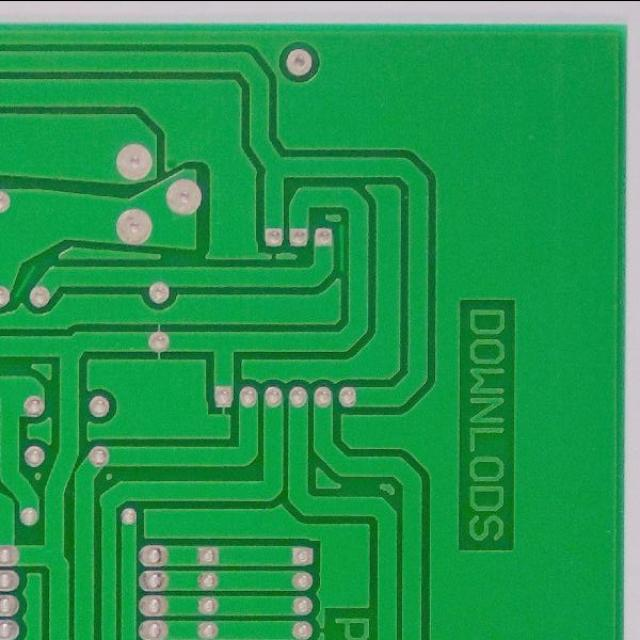spurious_copper: (11, 260, 37, 300), (334, 221, 348, 274)
